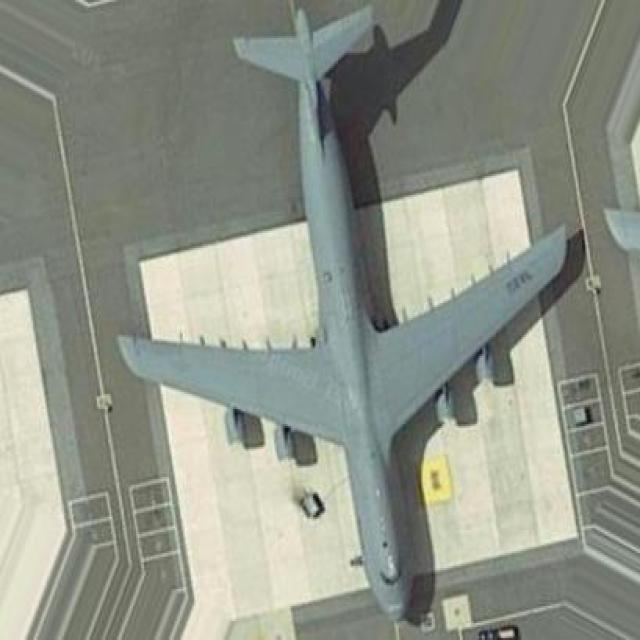C-5_TopDown: (114, 0, 588, 625)
